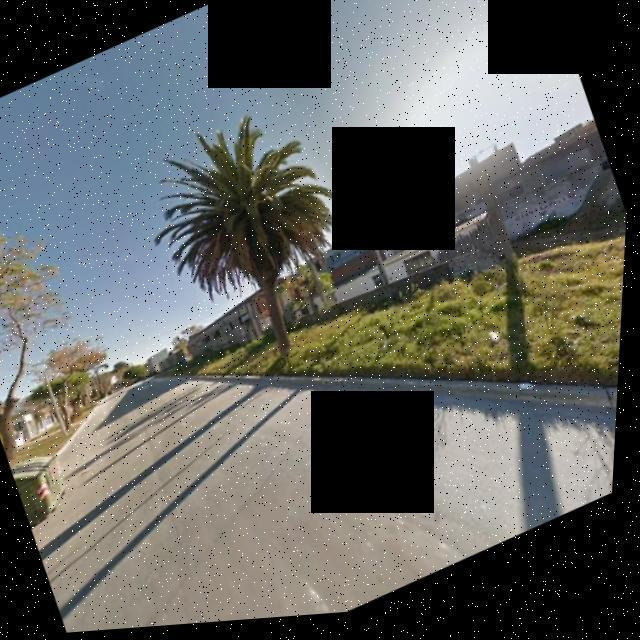bin: (9, 434, 95, 536)
